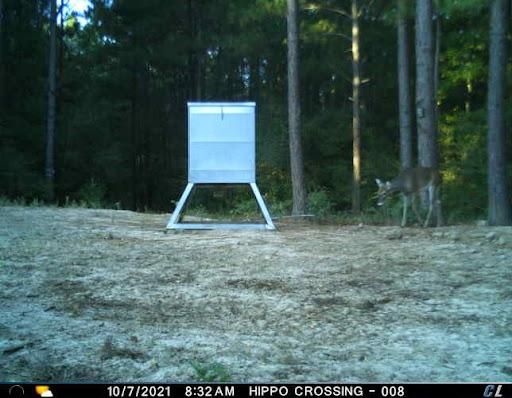Deer: (365, 161, 454, 231)
